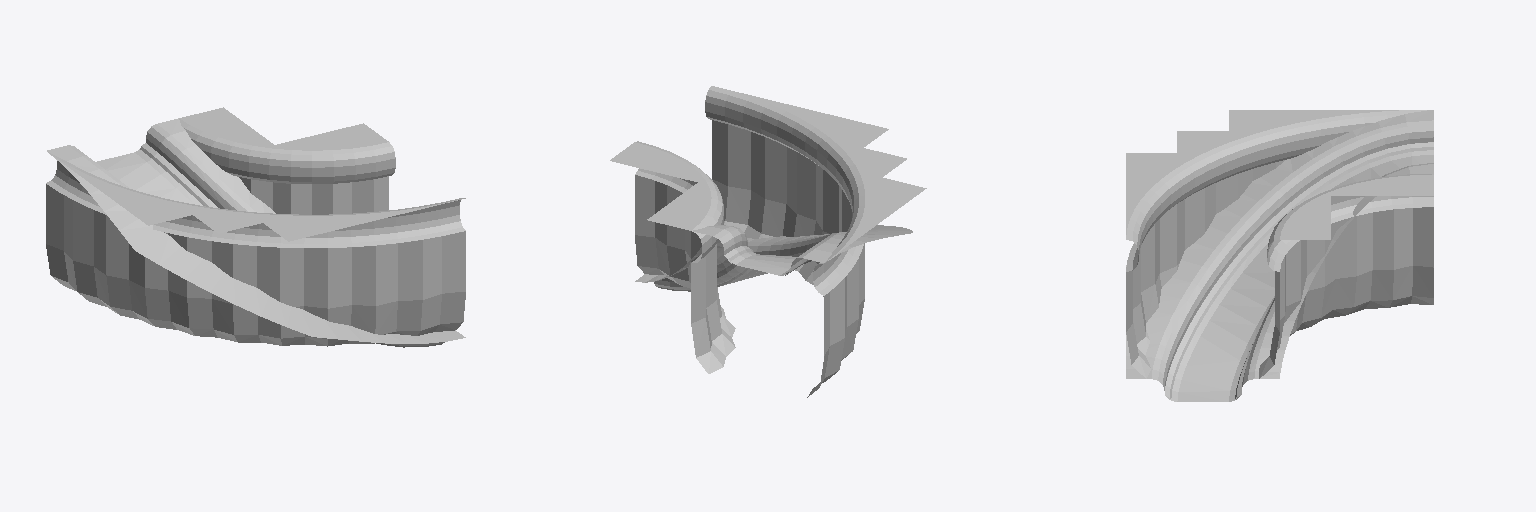
Rendered from Track_Cliff_Curve_Striped_Single_6x6.obj.
3 views of the same model, side by side, from view 1: azimuth 30°, elevation 25°; view 2: azimuth 150°, elevation 25°; view 3: azimuth 270°, elevation 25° (orthographic).
Parts seen in each view (by area): view 1: Rock, Grass, Dirt; view 2: Rock, Grass, Dirt; view 3: Grass, Rock, Dirt, Raceline_Color_2, Raceline_Color_1.
Part boxes in pixels (left/top/right/bottom): Rock: left=46, top=176, right=465, bottom=346; Grass: left=46, top=107, right=465, bottom=343; Dirt: left=96, top=149, right=444, bottom=345; Rock: left=635, top=120, right=864, bottom=397; Grass: left=610, top=86, right=926, bottom=295; Dirt: left=655, top=252, right=808, bottom=289; Grass: left=1126, top=110, right=1433, bottom=390; Rock: left=1126, top=160, right=1433, bottom=378; Dirt: left=1166, top=150, right=1433, bottom=401; Raceline_Color_2: left=1166, top=142, right=1433, bottom=388; Raceline_Color_1: left=1165, top=144, right=1411, bottom=398.
Size of the model in its own units: 6 by 3.5 by 6.